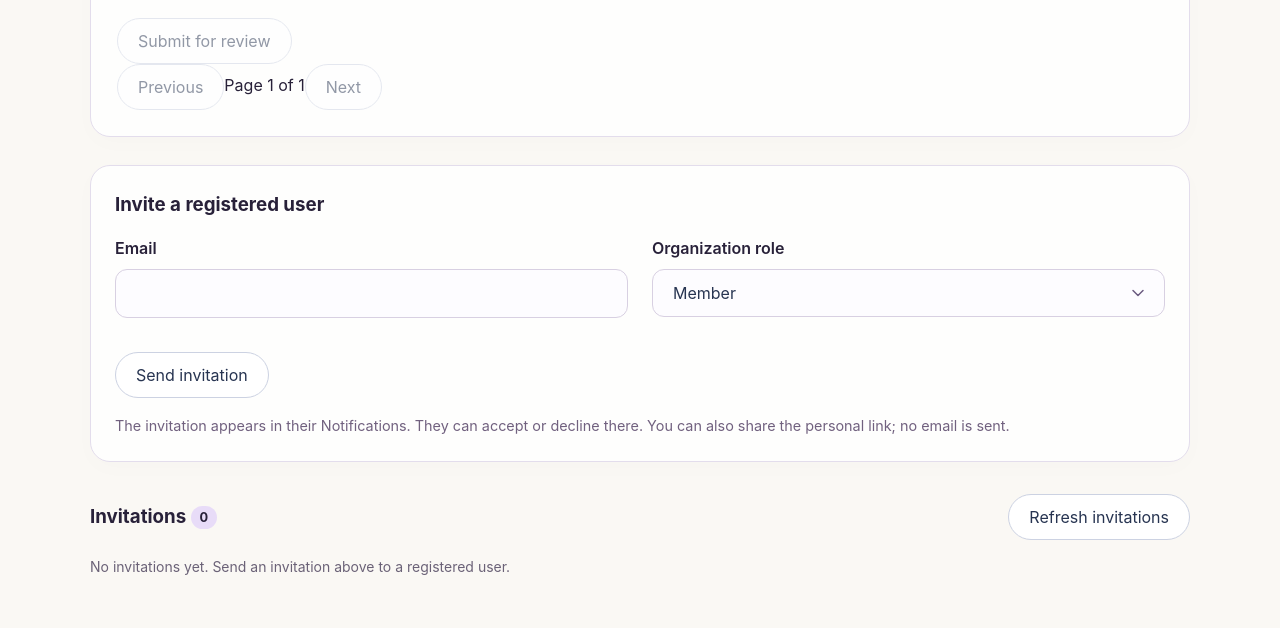
Test: shows registration guidance returned by the invitation endpoint
The width and height of the screenshot is (1280, 628).
(page scrolled)
Type "new@example.com" into the field labelled "Email". click: {"x": 372, "y": 294}
box: x1=115 y1=269 x2=628 y2=318
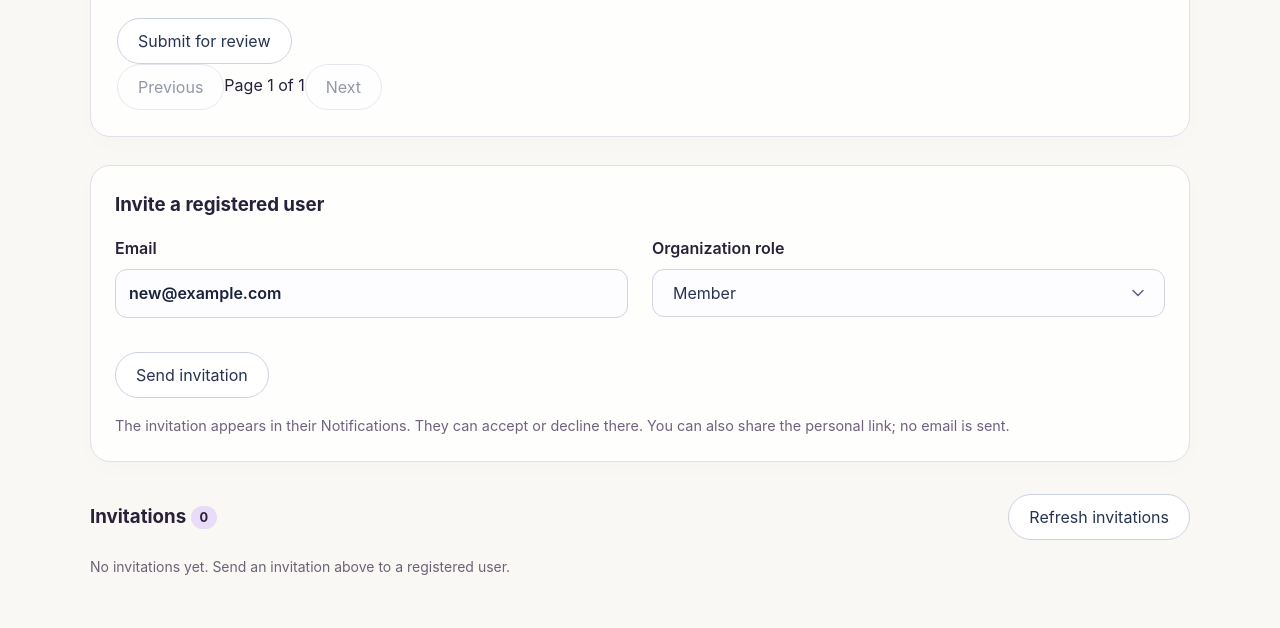
Click the button "Send invitation". click: {"x": 192, "y": 375}
box: x1=115 y1=352 x2=269 y2=398
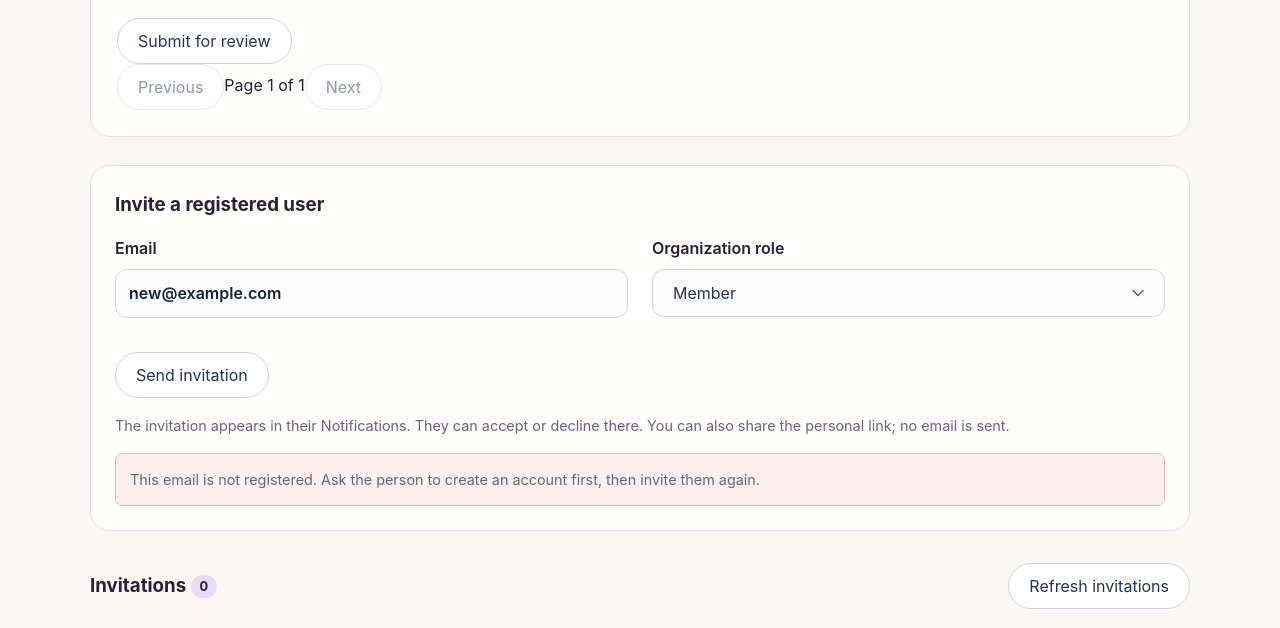
expect the message shows "not registered": met, box x1=130 y1=471 x2=760 y2=488
